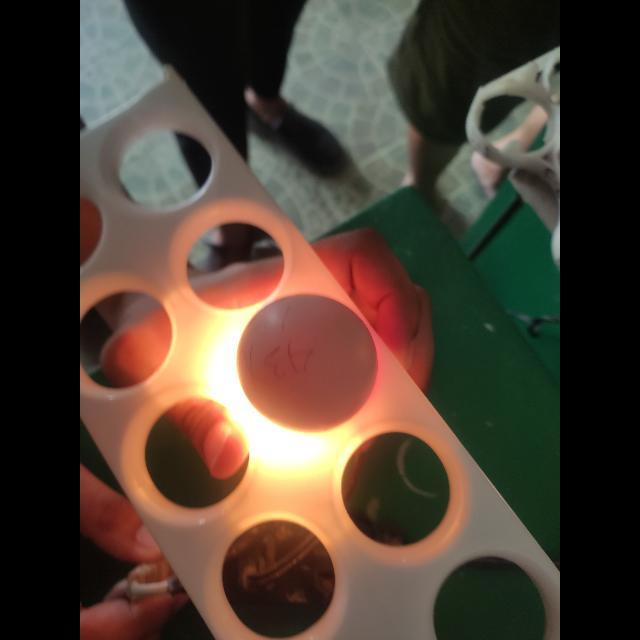Fertile: (238, 295, 378, 433)
